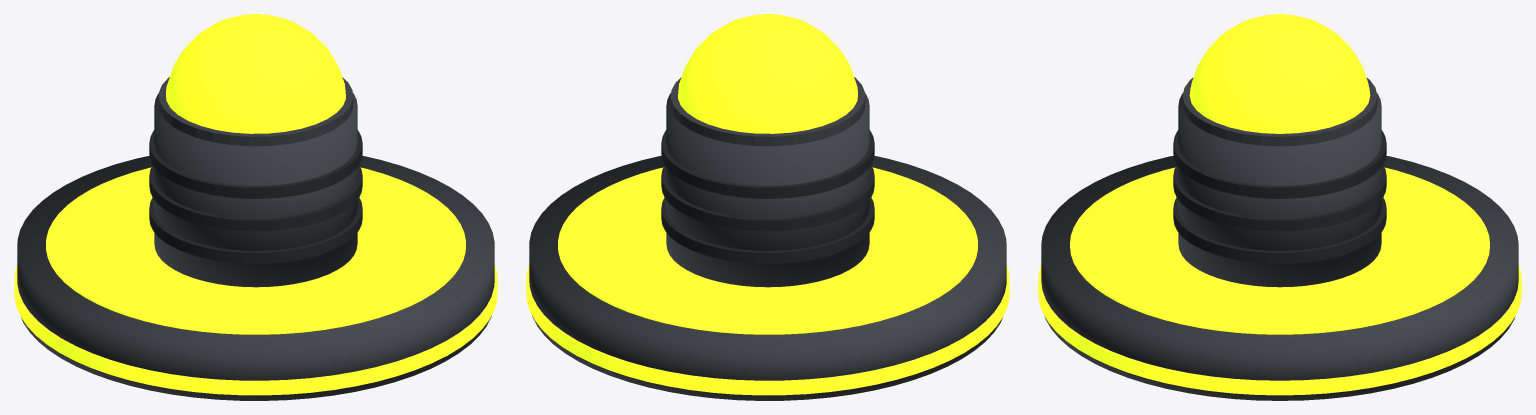
Rendered from rebatedor_tokamak_reactor_p1.glb.
3 renders of one model, left to right at view 1: azimuth 30°, elevation 25°; view 2: azimuth 150°, elevation 25°; view 3: azimuth 270°, elevation 25°, orthographic.
Parts seen in each view (by area): view 1: Cylinder.002, Cylinder, Cylinder.003, Sphere, Cylinder.001, Cylinder.006, Cylinder.004, Cylinder.005, Cylinder.007; view 2: Cylinder.002, Cylinder, Cylinder.003, Sphere, Cylinder.001, Cylinder.006, Cylinder.004, Cylinder.005, Cylinder.007; view 3: Cylinder.002, Cylinder, Cylinder.003, Sphere, Cylinder.001, Cylinder.006, Cylinder.004, Cylinder.005, Cylinder.007.
Part boxes in pixels (box(x1,y1,x2,y2)): Cylinder.002: box(46, 167, 465, 334); Cylinder: box(17, 155, 494, 400); Cylinder.003: box(154, 93, 357, 287); Sphere: box(166, 14, 345, 133); Cylinder.001: box(14, 264, 497, 395); Cylinder.006: box(149, 130, 362, 198); Cylinder.004: box(149, 197, 362, 263); Cylinder.005: box(149, 165, 362, 231); Cylinder.007: box(158, 77, 353, 146); Cylinder.002: box(558, 167, 977, 334); Cylinder: box(529, 155, 1006, 400); Cylinder.003: box(666, 93, 869, 287); Sphere: box(678, 14, 857, 133); Cylinder.001: box(526, 264, 1009, 395); Cylinder.006: box(661, 130, 874, 198); Cylinder.004: box(661, 197, 874, 263); Cylinder.005: box(661, 165, 874, 231); Cylinder.007: box(670, 77, 865, 146); Cylinder.002: box(1070, 167, 1489, 334); Cylinder: box(1041, 155, 1518, 400); Cylinder.003: box(1178, 93, 1381, 287); Sphere: box(1189, 14, 1370, 133); Cylinder.001: box(1038, 265, 1521, 395); Cylinder.006: box(1173, 130, 1386, 198); Cylinder.004: box(1173, 197, 1386, 263); Cylinder.005: box(1173, 165, 1386, 231); Cylinder.007: box(1182, 77, 1377, 146).
Bounding box in the file's own units: 0.1619 × 0.1032 × 0.1619.
